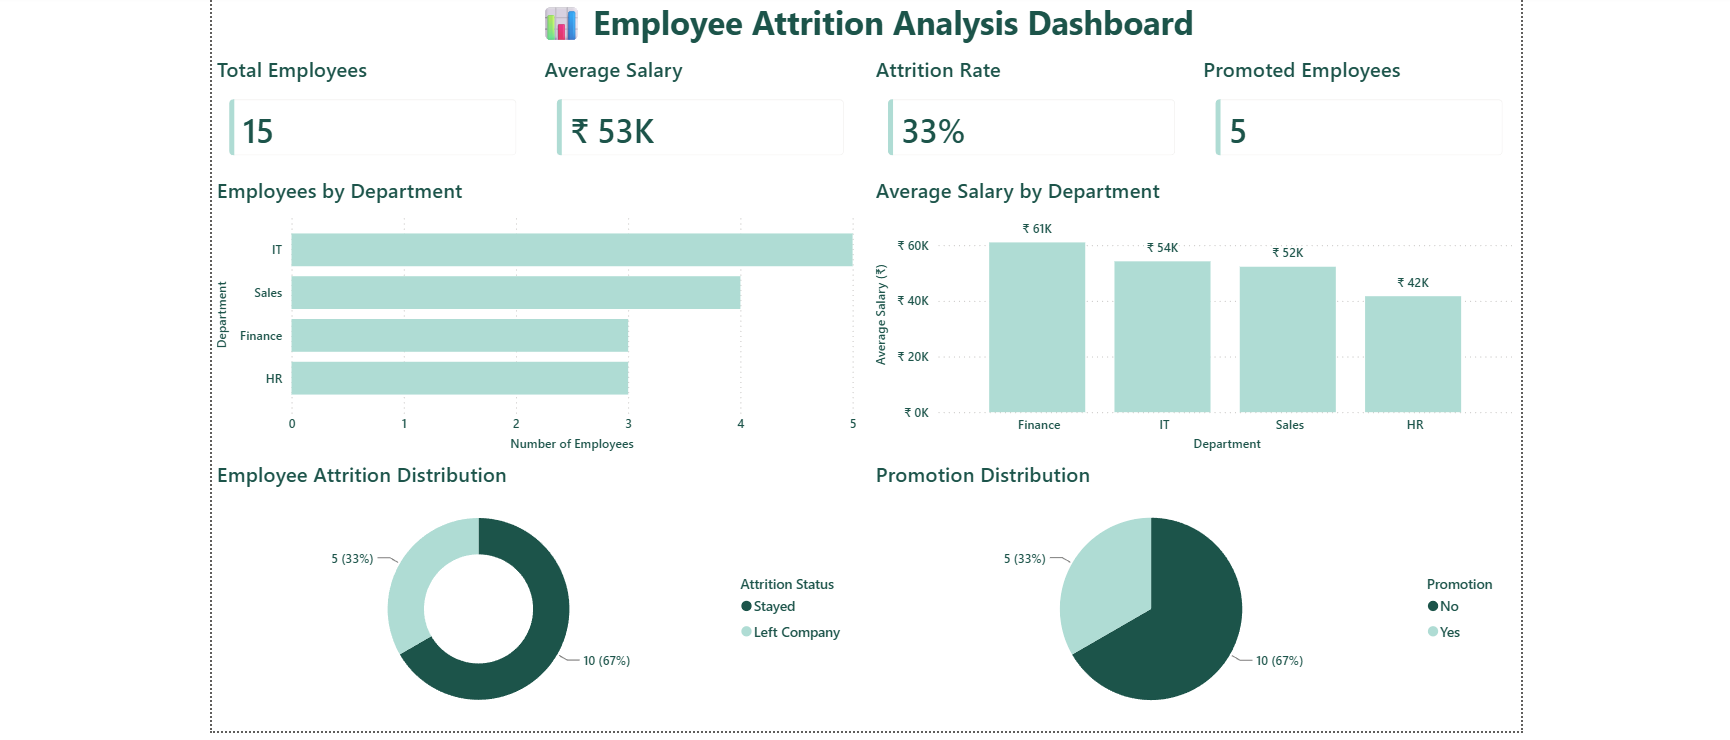

What the dashboard file says about the page in this screenshot:
{"tool":"powerbi","page":{"name":"Employee Attrition Analysis Dashboard","canvas":[1280,720],"ordinal":0},"visuals":[{"type":"textbox","box":[0,0,1280.3,52.6],"z":0},{"type":"cardVisual","title":"Total Employees","fields":{"Data":["CountNonNull(employees_clean.EmployeeID)"]},"box":[0,58.7,315.5,116],"z":1000},{"type":"cardVisual","title":"Average Salary","fields":{"Data":["Avg(employees_clean.Salary)"]},"box":[320.4,58.7,315.5,116.2],"z":2000},{"type":"cardVisual","title":"Attrition Rate","fields":{"Data":["employees_clean.Attrition Rate"]},"box":[644.4,58.7,315.5,116.2],"z":3000},{"type":"cardVisual","title":"Promoted Employees","fields":{"Data":["employees_clean.Promoted Employees"]},"box":[964.8,58.7,315.5,116.2],"z":4000},{"type":"clusteredBarChart","title":"Employees by Department","fields":{"Category":["employees_clean.Department"],"Y":["CountNonNull(employees_clean.EmployeeID)"]},"box":[0,177.3,635.9,273.9],"z":5000},{"type":"clusteredColumnChart","title":"Average Salary by Department","fields":{"Category":["employees_clean.Department"],"Y":["Avg(employees_clean.Salary)"]},"box":[644.4,177.3,635.9,274],"z":6000},{"type":"donutChart","title":"Employee Attrition Distribution","fields":{"Y":["CountNonNull(employees_clean.EmployeeID)"],"Category":["employees_clean.Attrition Status"]},"box":[0,454.9,635.9,265.4],"z":7000},{"type":"pieChart","title":"Promotion Distribution","fields":{"Category":["employees_clean.Promotion"],"Y":["CountNonNull(employees_clean.EmployeeID)"]},"box":[644.4,454.9,635.9,265.4],"z":8000}]}

Visuals, with their boxes on the page's 1280x720 design canvas (x1, y1, x2, y2). These are canvas units, not pixel positions in the 1730x740 screenshot, which may show the page scaled, cropped or inside an application window:
textbox: box=[0, 0, 1280, 53]
"Total Employees" cardVisual: box=[0, 59, 316, 175]
"Average Salary" cardVisual: box=[320, 59, 636, 175]
"Attrition Rate" cardVisual: box=[644, 59, 960, 175]
"Promoted Employees" cardVisual: box=[965, 59, 1280, 175]
"Employees by Department" clusteredBarChart: box=[0, 177, 636, 451]
"Average Salary by Department" clusteredColumnChart: box=[644, 177, 1280, 451]
"Employee Attrition Distribution" donutChart: box=[0, 455, 636, 720]
"Promotion Distribution" pieChart: box=[644, 455, 1280, 720]
